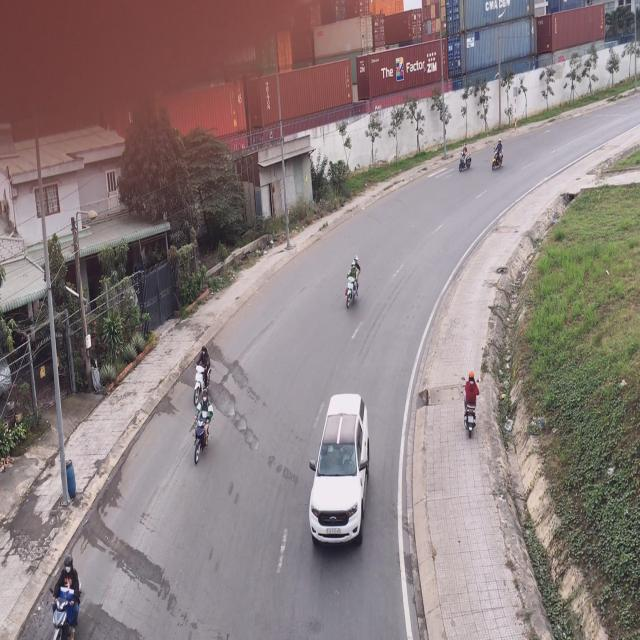car: (310, 391, 369, 549), (343, 255, 361, 313)
motorbike: (52, 555, 83, 640), (192, 390, 212, 463), (192, 345, 213, 406), (460, 373, 478, 439), (458, 143, 471, 174), (492, 139, 504, 171)
